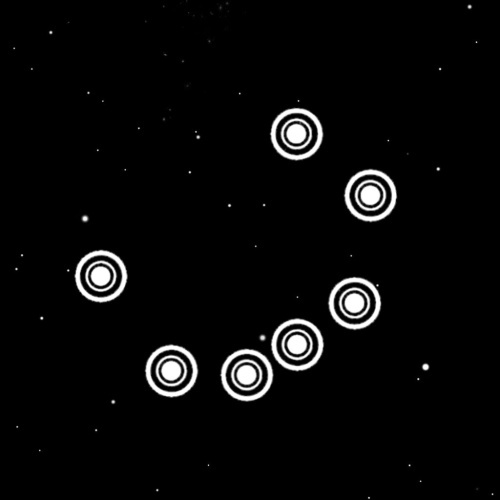corona_borealis: (66, 94, 402, 403)
